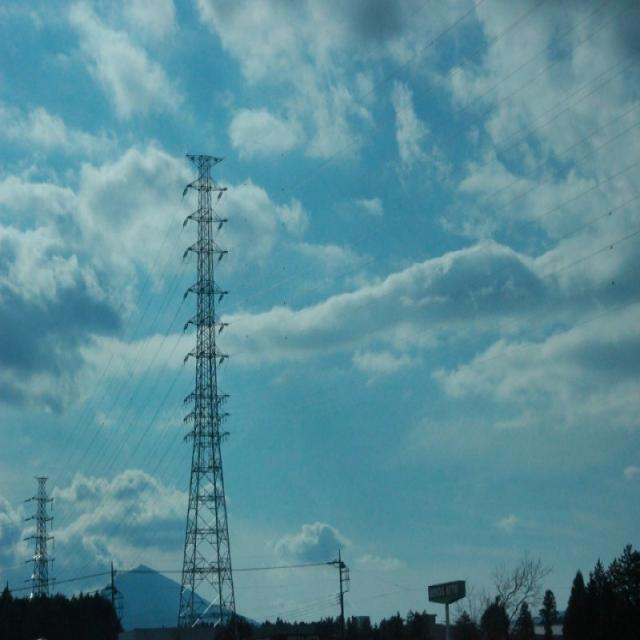non-critical vegetation: (164, 133, 254, 635), (22, 468, 69, 614)
